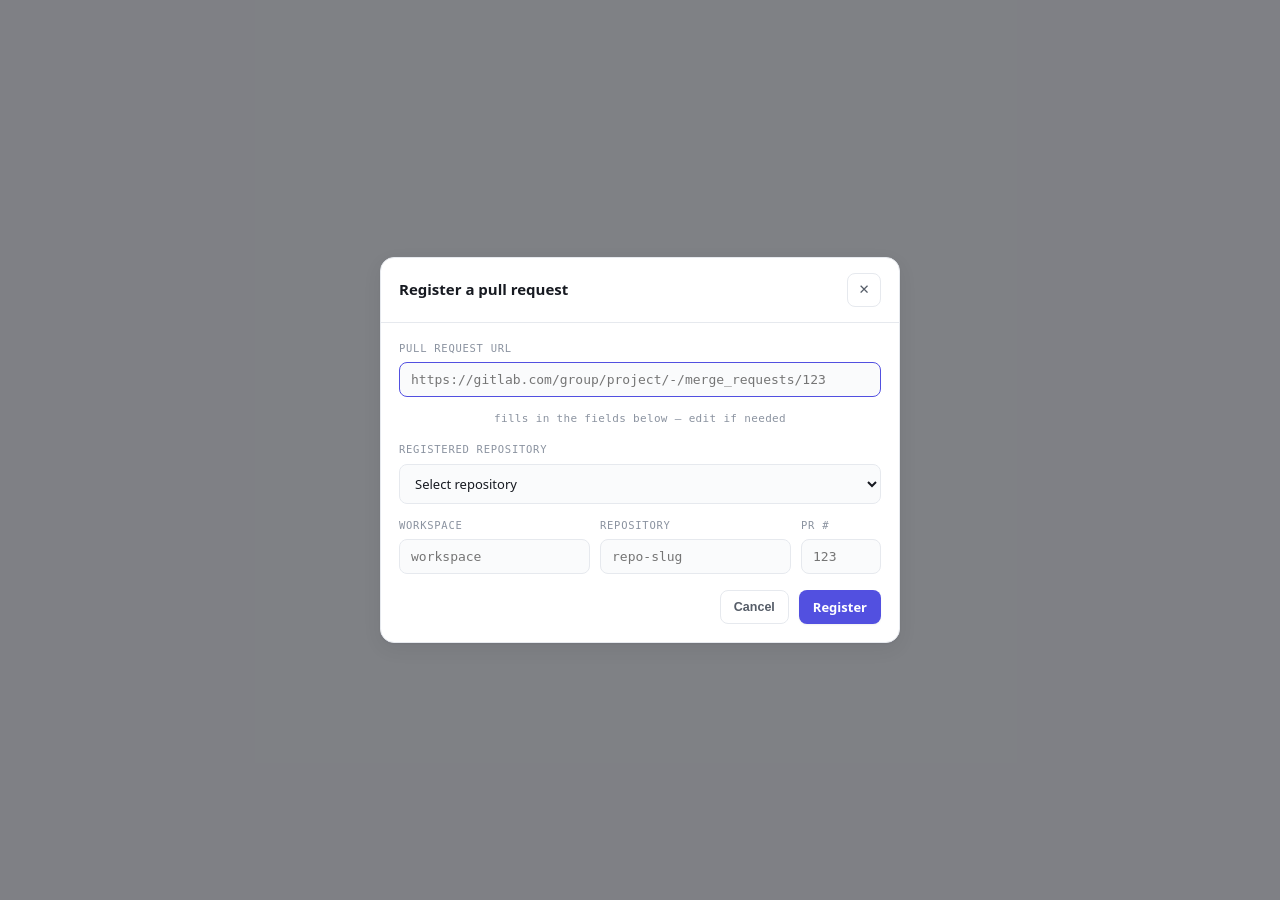
it: RegisterPrDialog — form › rejects a non-numeric PR number before it can reach the API
This screenshot has width=1280, height=900.
Select "https://github.example.invalid · acme/widgets" in the dropdown labelled "Registered repository": (640, 484) x1=399 y1=464 x2=881 y2=504
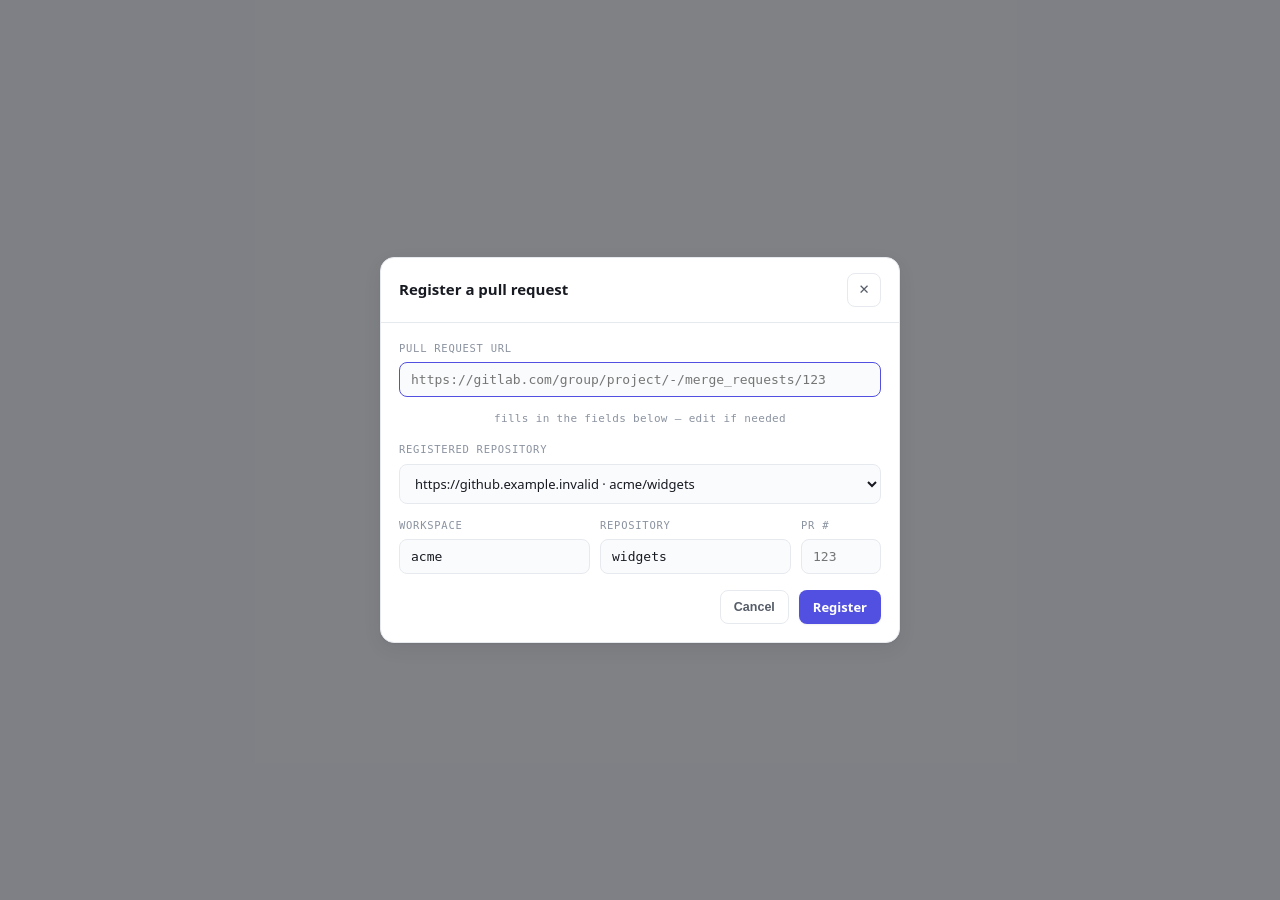
In the field labelled "PR #": (841, 557) x1=801 y1=539 x2=881 y2=574, type "twenty-four"
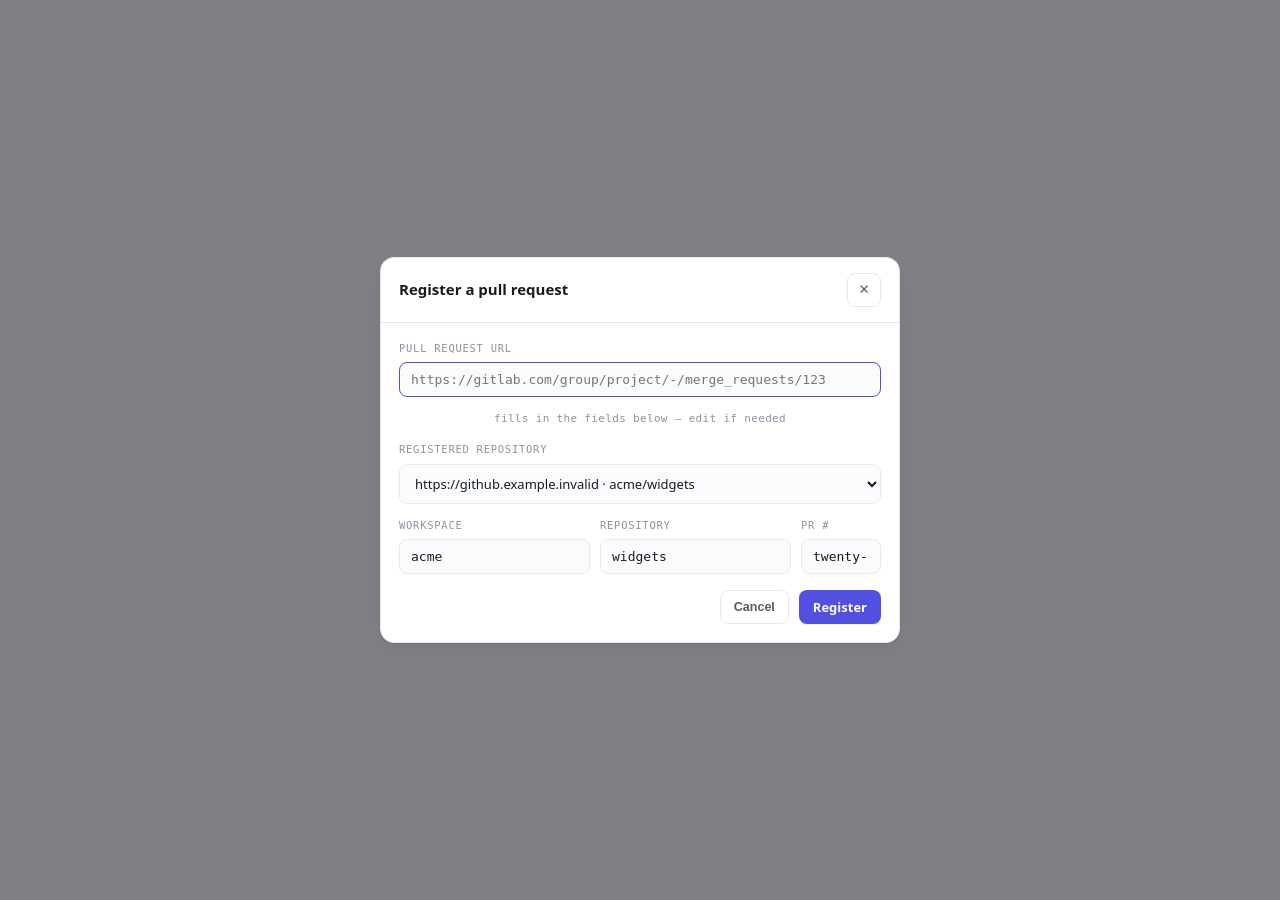
Click the button "Register": click(840, 607) x1=799 y1=590 x2=881 y2=624
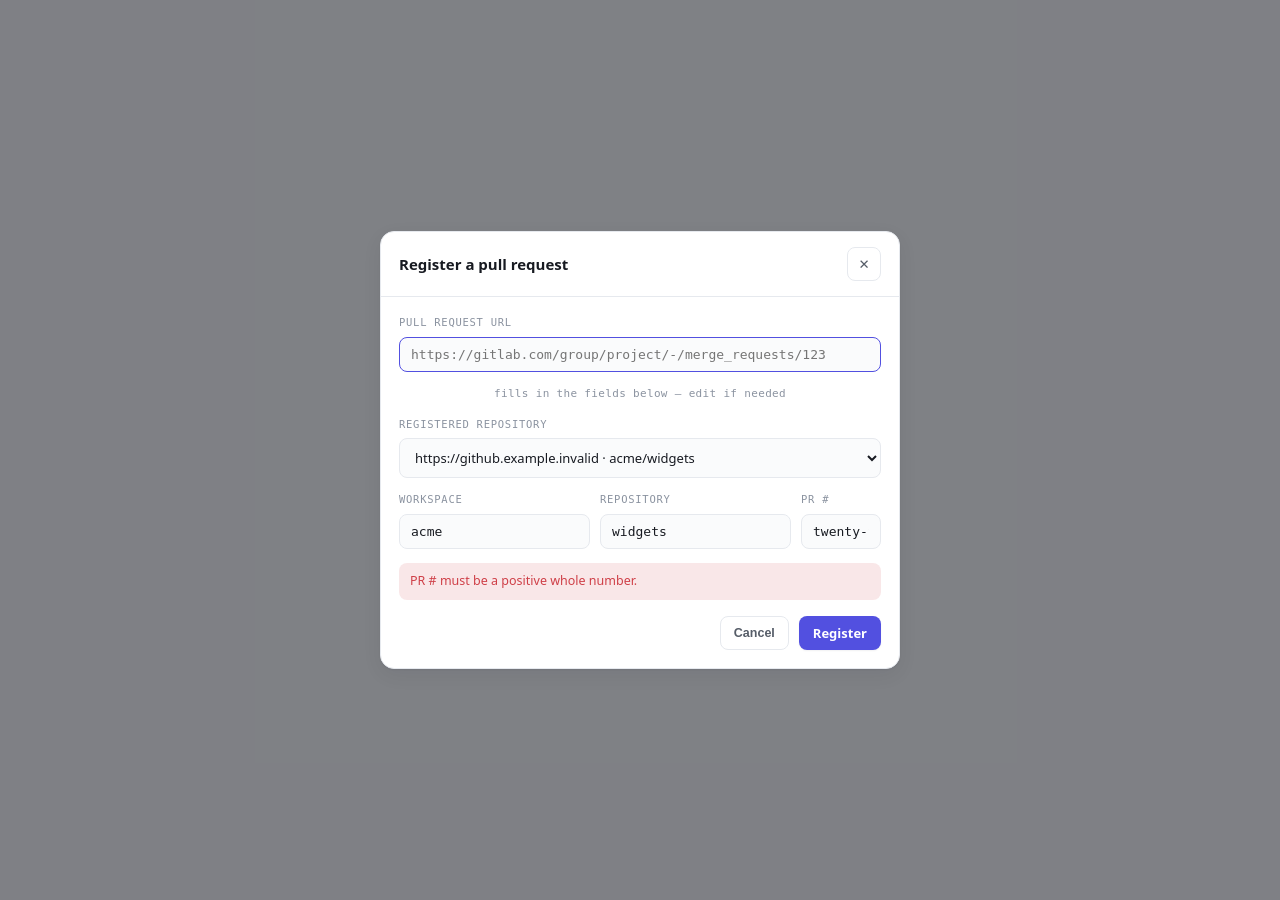
Expected: the text "PR # must be a positive whole number." is shown, x1=399 y1=563 x2=881 y2=600
